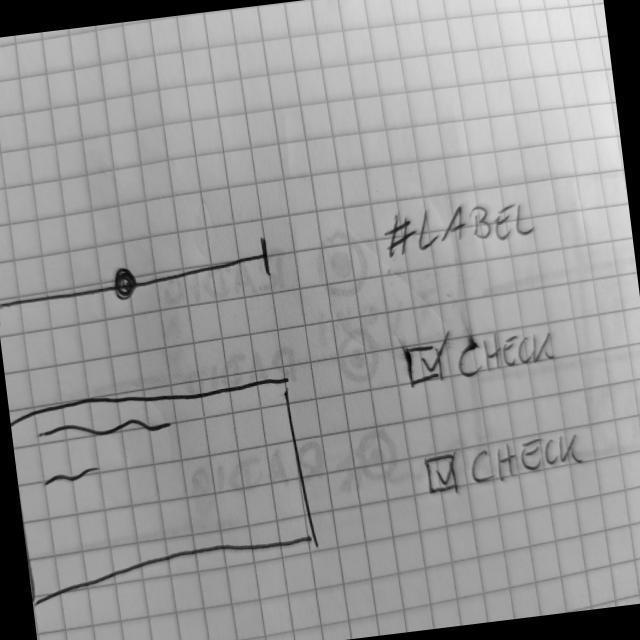checkbox: (422, 430, 590, 500), (401, 317, 559, 391)
label: (380, 191, 540, 266)
slider: (1, 231, 277, 329)
textarea: (9, 368, 327, 609)
